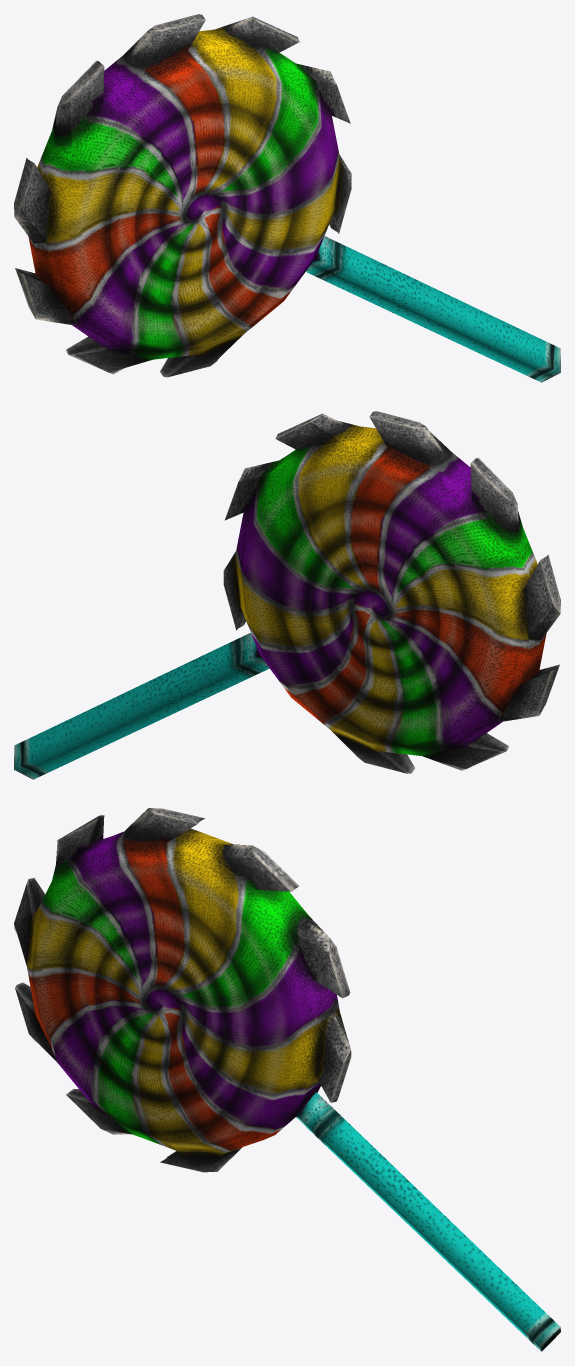
The model's file is BACK_CHIBI_LOLLIPOP.fbx.
3 views of the same model, one above another, from view 1: azimuth 30°, elevation 25°; view 2: azimuth 150°, elevation 25°; view 3: azimuth 330°, elevation 25° (orthographic).
Visible parts, largest first — view 1: BACK_CHIBI_LOLLIPOP; view 2: BACK_CHIBI_LOLLIPOP; view 3: BACK_CHIBI_LOLLIPOP.
Boxes of the visible parts, bbox=[...] form: BACK_CHIBI_LOLLIPOP: bbox=[14, 14, 560, 382]; BACK_CHIBI_LOLLIPOP: bbox=[14, 411, 560, 779]; BACK_CHIBI_LOLLIPOP: bbox=[14, 808, 560, 1351].
Bounding box in the file's own units: 0.0394 × 0.0311 × 0.005.
